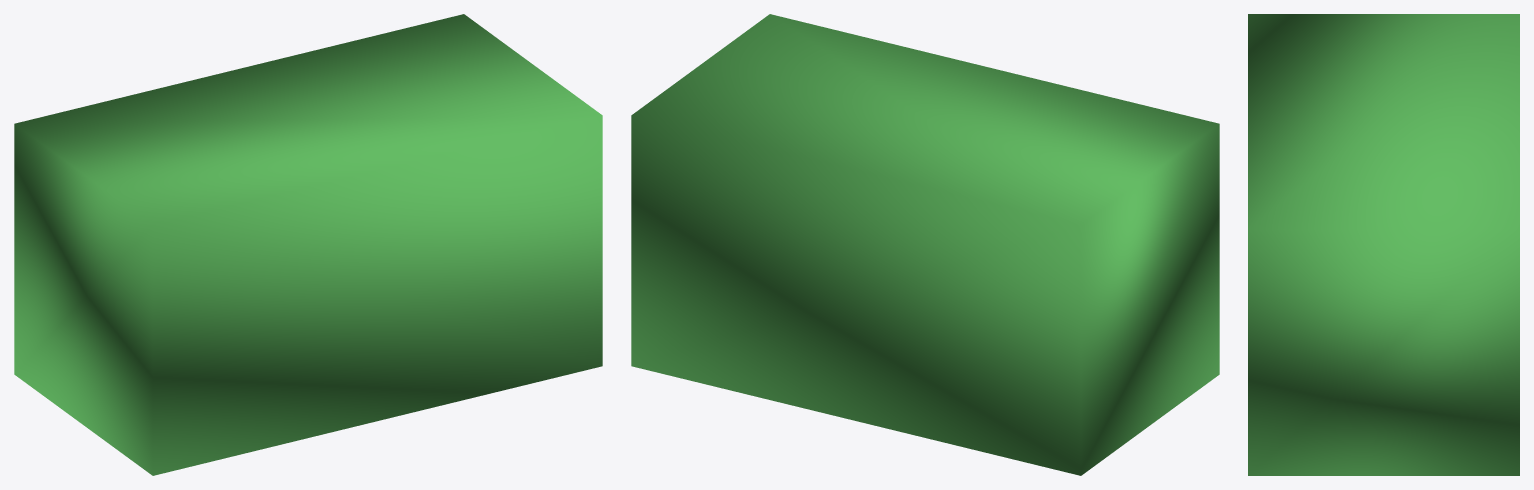
Rendered from expected.gltf.
3 views of the same model, side by side, from view 1: azimuth 30°, elevation 25°; view 2: azimuth 150°, elevation 25°; view 3: azimuth 270°, elevation 25° (orthographic).
Size of the model in its own units: 30 by 16 by 16.
